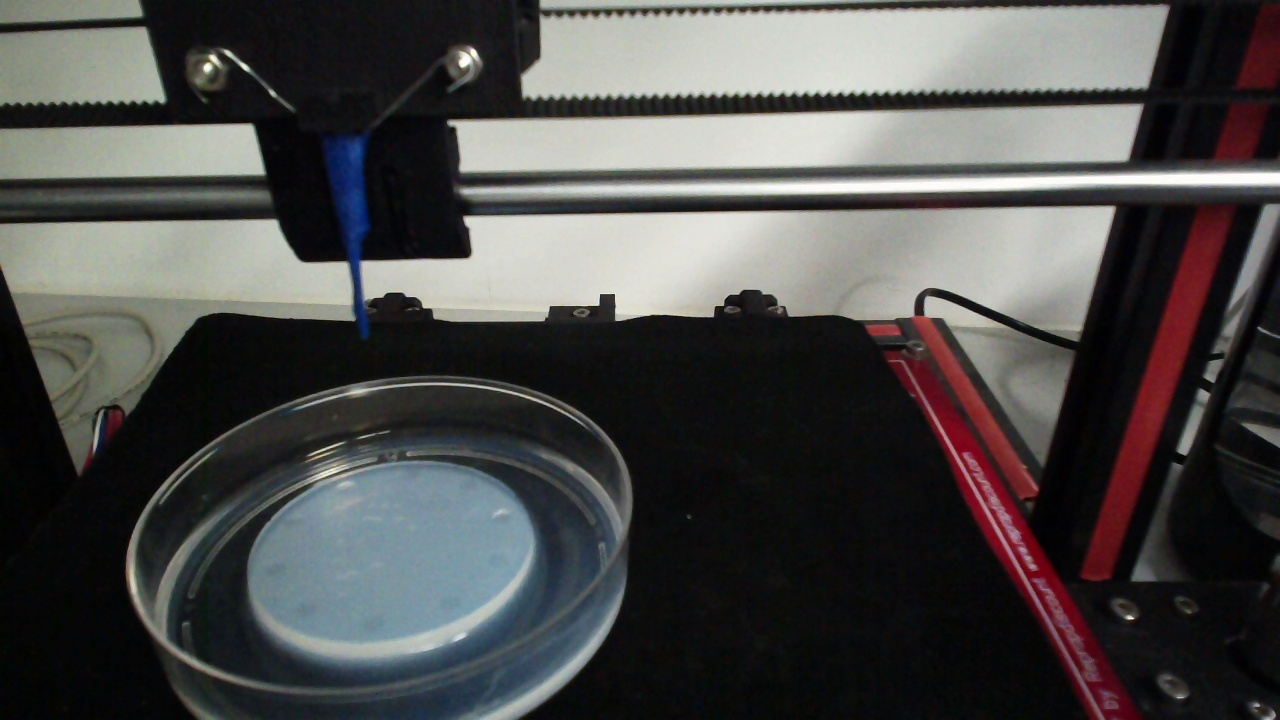groove: (437, 595, 464, 615), (362, 614, 386, 635), (293, 599, 318, 618), (486, 551, 510, 569), (491, 507, 515, 525), (398, 466, 425, 482), (335, 481, 360, 498), (263, 560, 286, 578), (457, 474, 479, 492), (283, 513, 306, 530)
needle: (321, 137, 368, 345)
